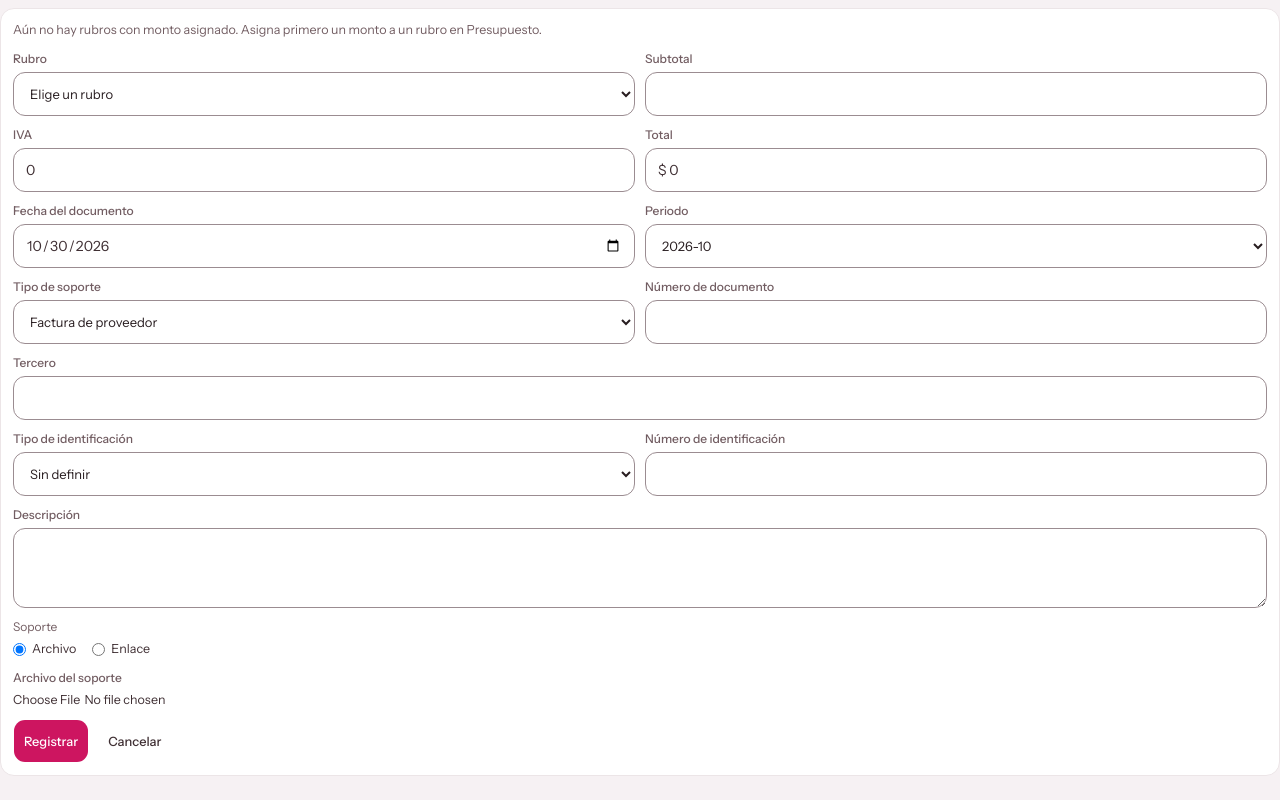
Test: GastoForm › explains that a rubro needs an assigned amount when none has one
expect the text "Asigna primero un monto a un rubro" is shown: met, box [13,22,542,37]
Click the button "Registrar" at (51, 741), box [13,719,89,763]
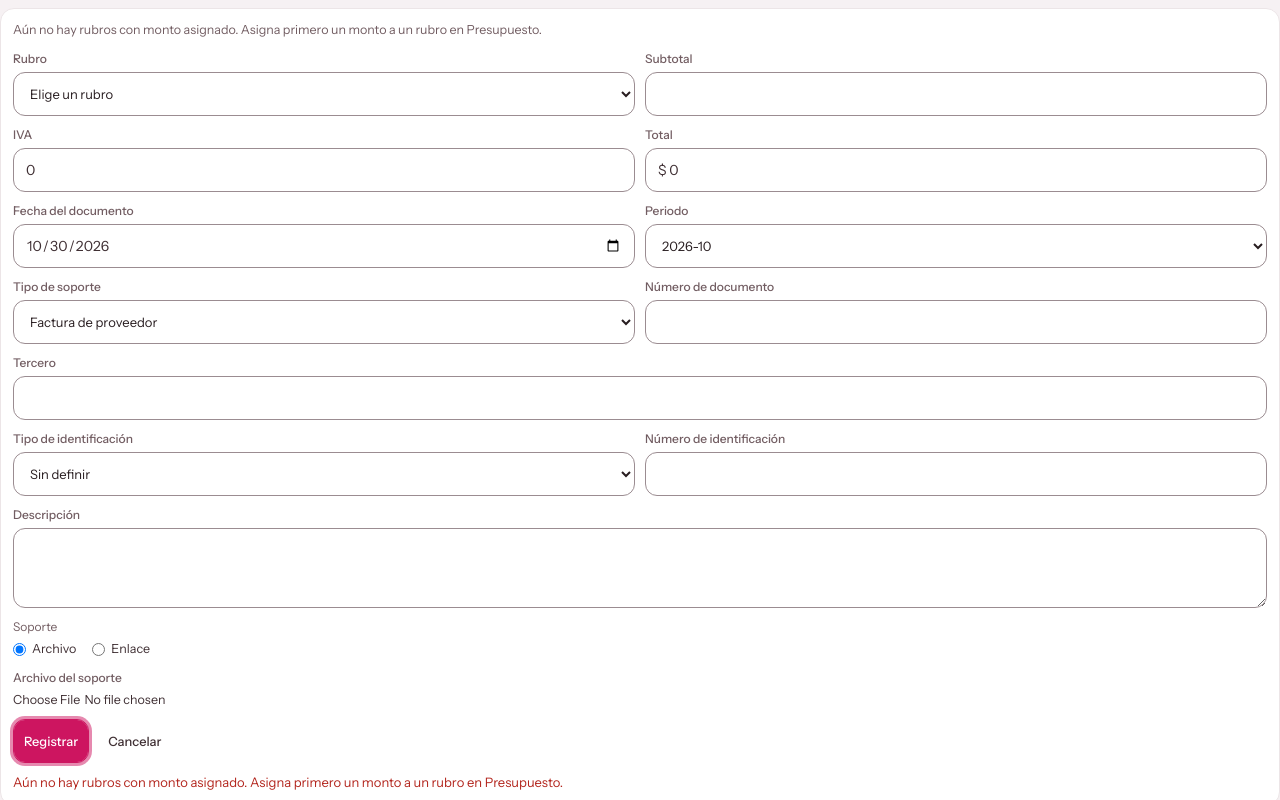
expect the message shows "Asigna primero un monto a un rubro": met, box [13,774,563,790]
